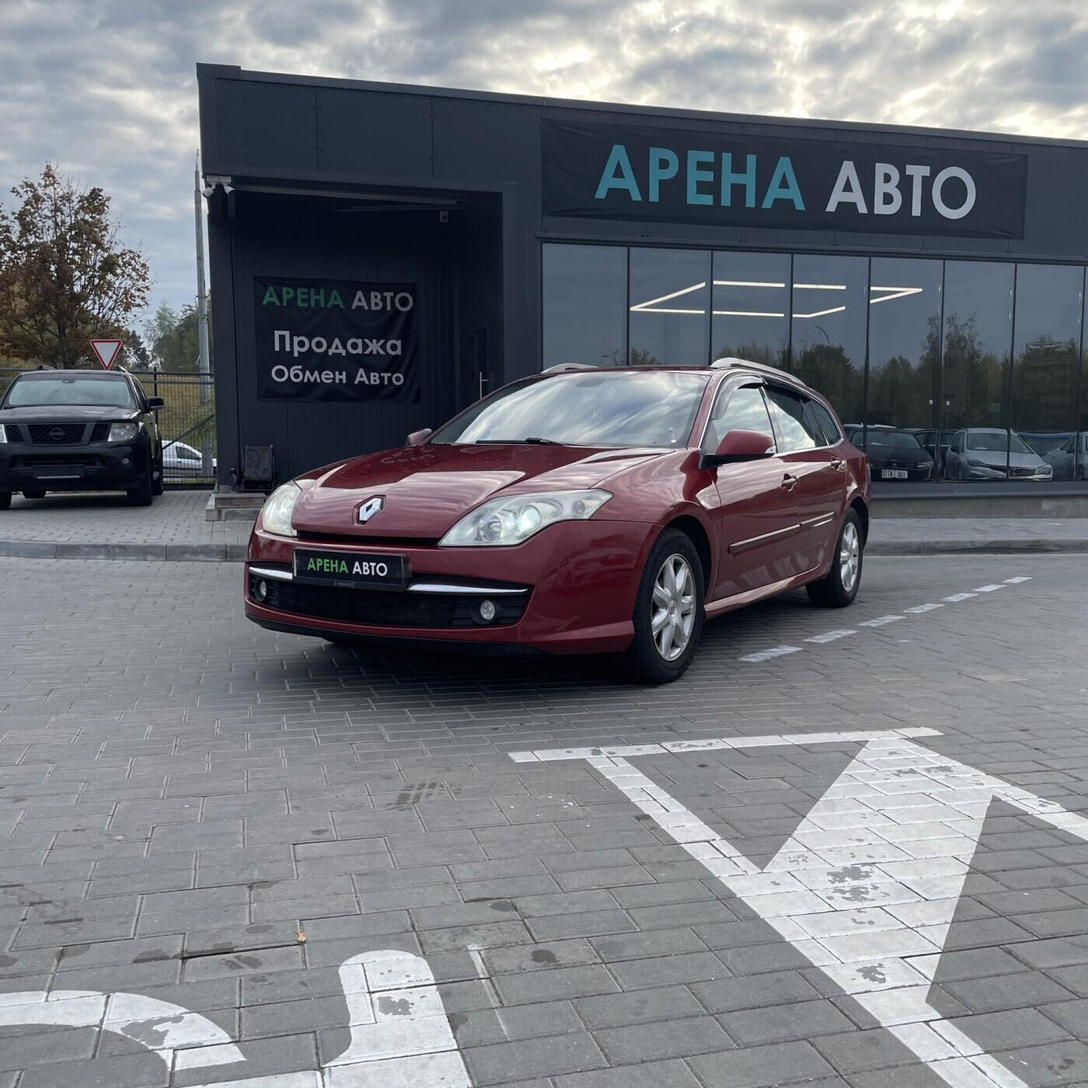Laguna_2007-2011: (244, 361, 869, 683)
